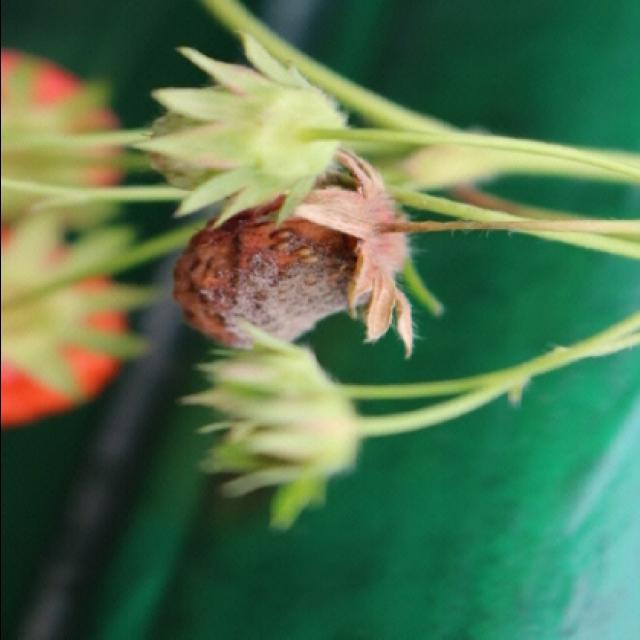Gray Mold: (172, 150, 455, 359)
